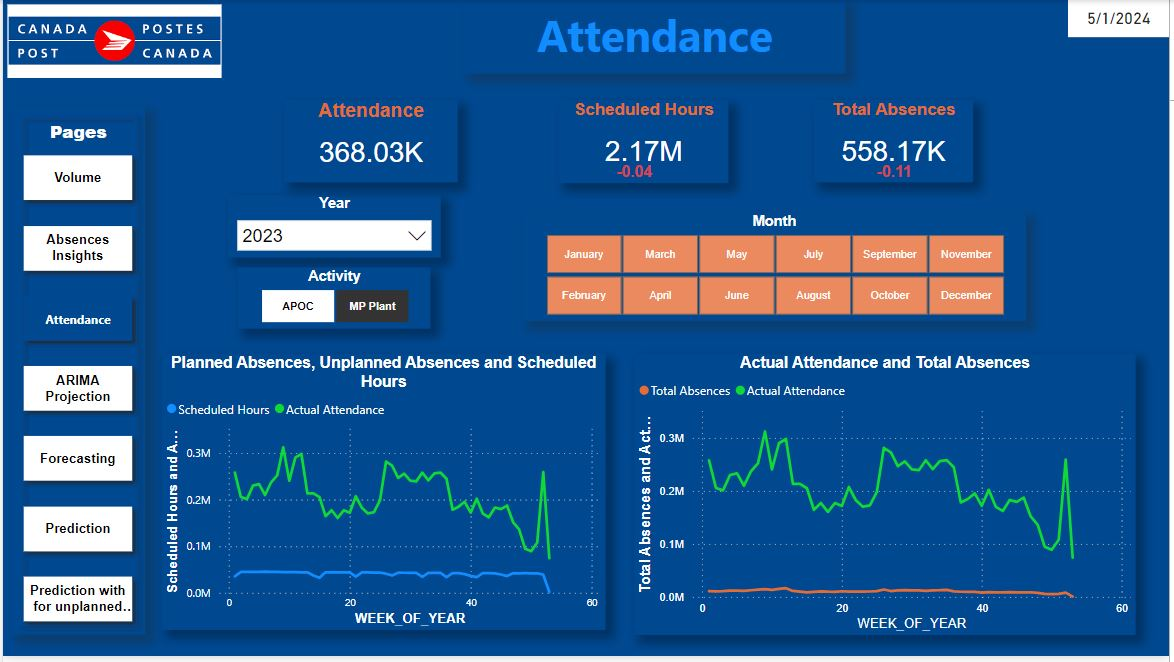

The dashboard page shown, as its layout file describes it:
{"tool":"powerbi","page":{"name":"Attendance","canvas":[1280,720],"ordinal":2},"visuals":[{"type":"slicer","title":"Month","fields":{"Values":["Date.CALENDAR_DATE.Variation.Date Hierarchy.Month"]},"box":[570.8,233.3,551.6,119.4],"z":0},{"type":"slicer","title":"Year","fields":{"Values":["Date.CALENDAR_DATE.Variation.Date Hierarchy.Year"]},"box":[247,214.1,233.3,68.6],"z":1000},{"type":"slicer","title":"Activity","fields":{"Values":["Activity.Activity"]},"box":[258,293.7,211.3,67.2],"z":2000},{"type":"image","box":[0,0,245.2,90.4],"z":3000},{"type":"card","fields":{"Values":["Date.TodayDate"]},"box":[1168.9,0,111.1,41.2],"z":4000},{"type":"lineChart","title":"Planned Absences, Unplanned Absences and Scheduled Hours","fields":{"Y":["Sum(DATA.Scheduled Hours)","Attendance Summary.Atual Attendance"],"Category":["Date.WEEK_OF_YEAR"]},"box":[174.3,388.3,487.1,303.3],"z":6000},{"type":"lineChart","title":"Actual Attendance and Total Absences","fields":{"Y":["DATA.Total Absences","Attendance Summary.Atual Attendance"],"Category":["Date.WEEK_OF_YEAR"]},"box":[693,388.3,550.3,308.7],"z":7000},{"type":"card","title":"Attendance","fields":{"Values":["Attendance Summary.Atual Attendance"]},"box":[308.7,109.8,190.7,90.6],"z":8000},{"type":"actionButton","box":[10,116.3,146.4,579.9],"z":9000},{"type":"pageNavigator","title":"Pages","box":[14.4,130.6,137.8,561.2],"z":10000},{"type":"group","id":"g1","title":"Group 2","box":[610.6,109.8,185.2,104.3],"z":11000},{"type":"card","title":"Scheduled Hours","fields":{"Values":["Sum(DATA.Scheduled Hours)"]},"box":[610.6,109.8,185.7,91.1],"z":11000,"group":"g1"},{"type":"textbox","box":[506.3,0,418.5,81],"z":12000},{"type":"group","id":"g2","title":"Group 1","box":[890.6,109.8,174.3,104.3],"z":13000},{"type":"card","title":"Total Absences","fields":{"Values":["DATA.Total Absences"]},"box":[890.6,109.8,174.3,90.6],"z":13000,"group":"g2"},{"type":"card","fields":{"Values":["DATA.YOYTotal"]},"box":[935.9,164.7,85.1,49.4],"z":14003,"group":"g2"},{"type":"card","fields":{"Values":["DATA.YOYScheduleHours"]},"box":[647.2,165,90.7,49.7],"z":14003,"group":"g1"}]}

Visuals, with their boxes in screenshot pixels (x1, y1, x2, y2), scaled from the page's 1280x720 canvas onto the 1174x662 screenshot:
"Month" slicer: detection(524, 215, 1029, 324)
"Year" slicer: detection(227, 197, 441, 260)
"Activity" slicer: detection(237, 270, 430, 332)
image: detection(0, 0, 225, 83)
card - Date.TodayDate: detection(1072, 0, 1173, 38)
"Planned Absences, Unplanned Absences and Scheduled Hours" lineChart: detection(160, 357, 607, 636)
"Actual Attendance and Total Absences" lineChart: detection(636, 357, 1140, 641)
"Attendance" card: detection(283, 101, 458, 184)
actionButton: detection(9, 107, 143, 640)
"Pages" pageNavigator: detection(13, 120, 140, 636)
"Group 2" group: detection(560, 101, 730, 197)
"Scheduled Hours" card: detection(560, 101, 730, 185)
textbox: detection(464, 0, 848, 74)
"Group 1" group: detection(817, 101, 977, 197)
"Total Absences" card: detection(817, 101, 977, 184)
card - DATA.YOYTotal: detection(858, 151, 936, 197)
card - DATA.YOYScheduleHours: detection(594, 152, 677, 197)
